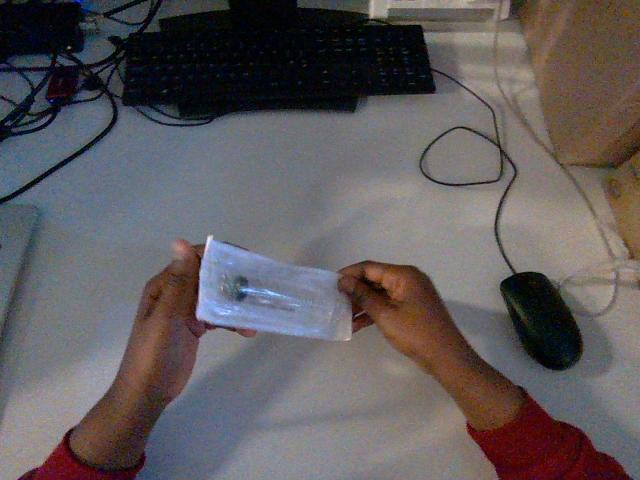syringe: (196, 236, 351, 340)
